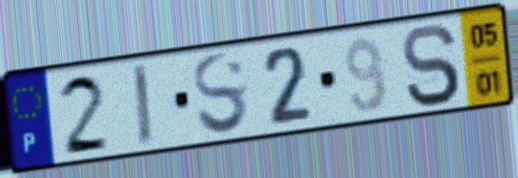2: (56, 72, 112, 155), (261, 45, 316, 128)
9: (343, 34, 391, 116)
I: (128, 60, 156, 151)
S: (399, 21, 464, 110), (189, 49, 252, 138)
